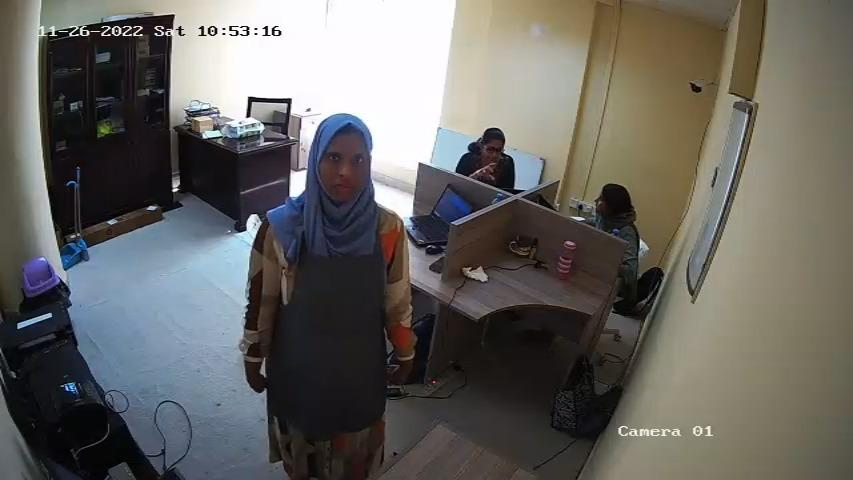apron: (264, 213, 392, 420)
